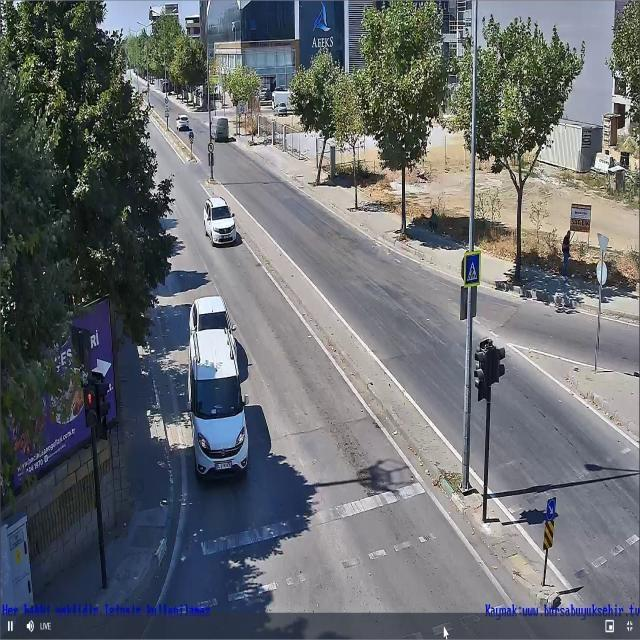Car: (202, 195, 242, 248)
Van: (185, 333, 250, 478)
